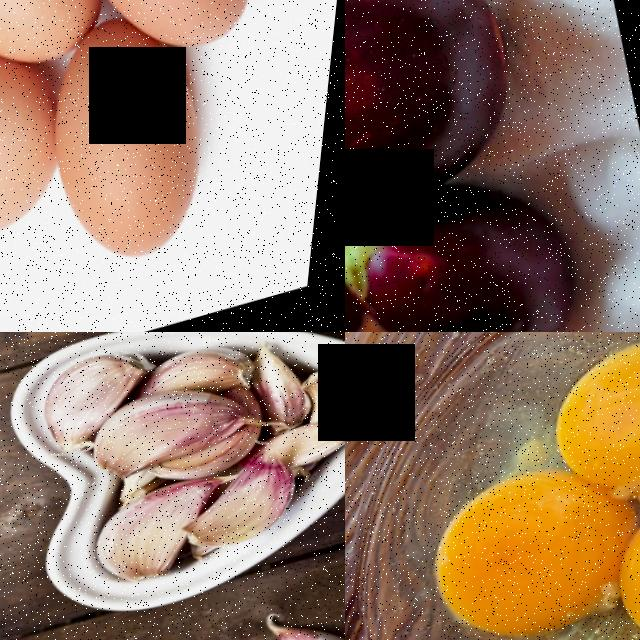egg_: (25, 17, 251, 276), (409, 452, 640, 640), (0, 53, 96, 269), (530, 332, 640, 504), (43, 0, 288, 71)
eggplant: (345, 0, 547, 251), (345, 147, 609, 332)
garlic: (86, 374, 252, 485), (86, 479, 222, 596), (175, 448, 315, 556), (28, 345, 158, 436), (150, 332, 269, 406)
